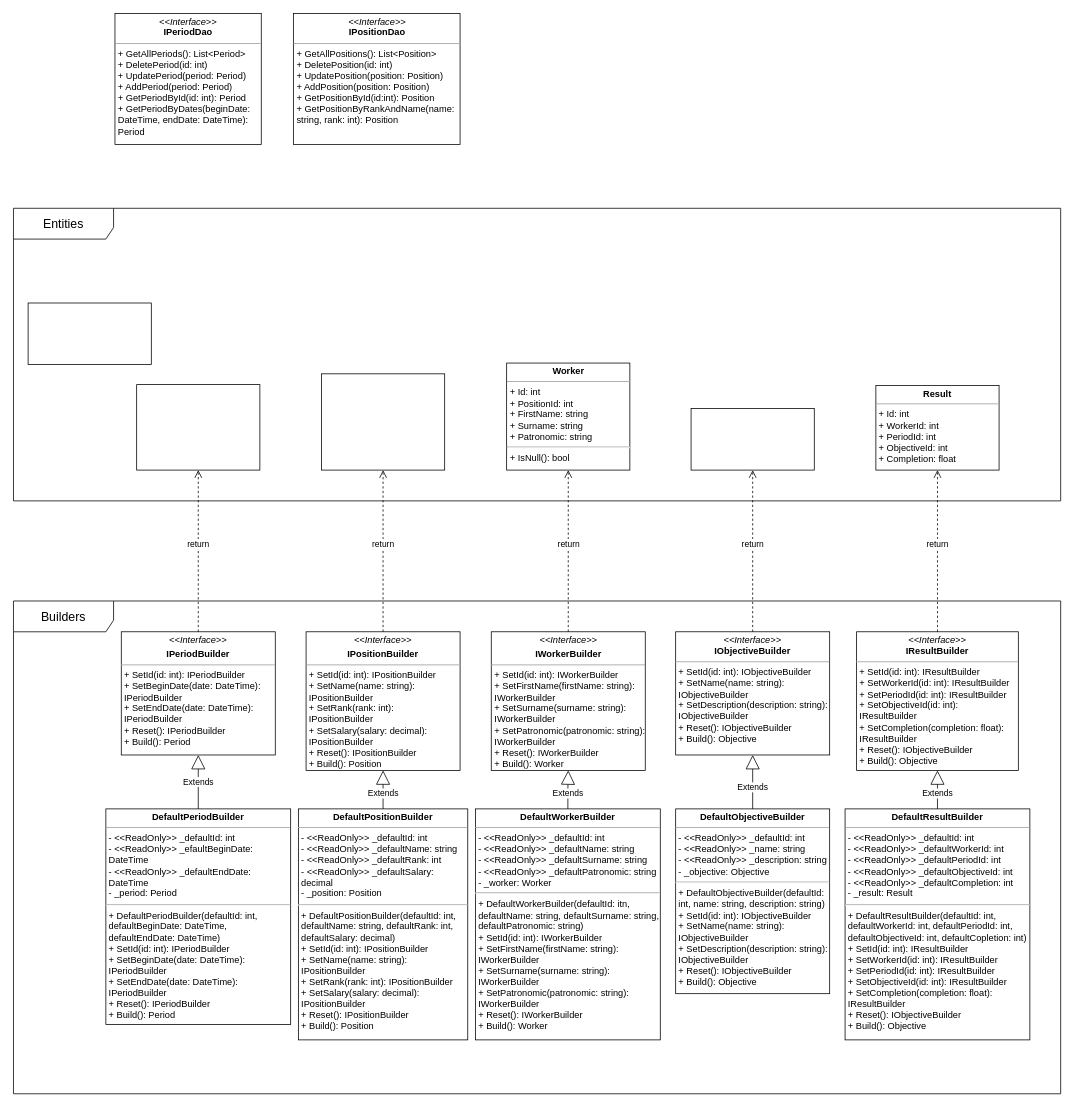
The diagram is 1074 pixels wide and 1107 high, and some of its shapes have lost their labels. The shapes that lost their labels are listed below. From the top down, each one's centre as x and y in pixels, then its label:
At pixel 89 333: "NullPeriod + Id: int + BeginDate: DateTime + EndDate: DateTime".
At pixel 198 427: "Period + Id: int + BeginDate: DateTime + EndDate: DateTime + IsNull(): bool".
At pixel 383 421: "Position + Id: int + Name: string + Rank: int + Salary: decimal + IsNull(): bool".
At pixel 752 439: "Objective + Id: int + Name: string + Description: string".
